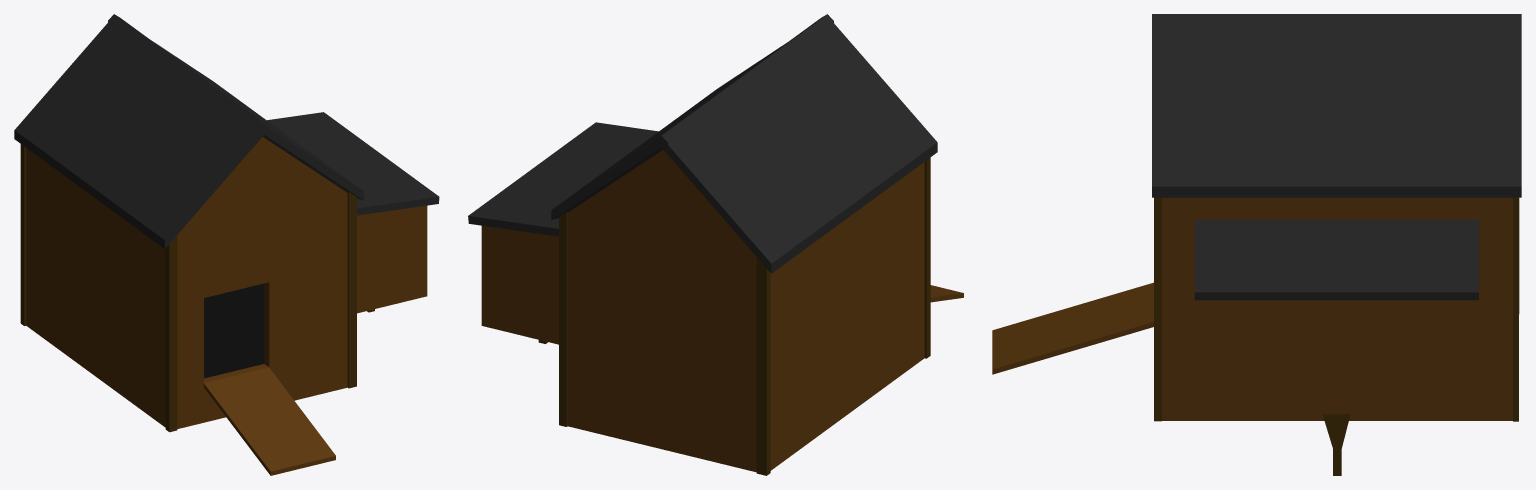
The model's file is Honsehus_ext.fbx.
3 renders of one model, left to right at view 1: azimuth 30°, elevation 25°; view 2: azimuth 150°, elevation 25°; view 3: azimuth 270°, elevation 25°, orthographic. The views are drawn at different scales.
Parts seen in each view (by area): view 1: Cube; view 2: Cube; view 3: Cube.
Part boxes in pixels (x1,y1,x2,y2): Cube: (14, 14, 439, 475); Cube: (468, 14, 963, 475); Cube: (992, 14, 1521, 475).
Bounding box in the file's own units: 3121 × 2963 × 3984.
